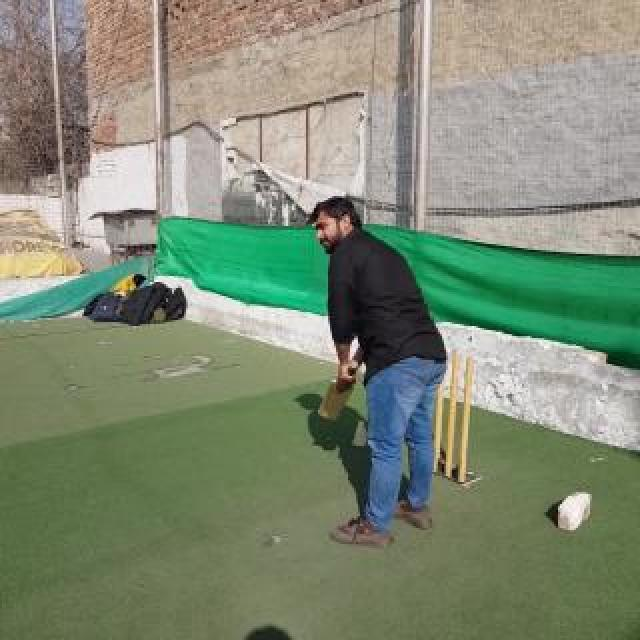bat: (316, 360, 358, 420)
